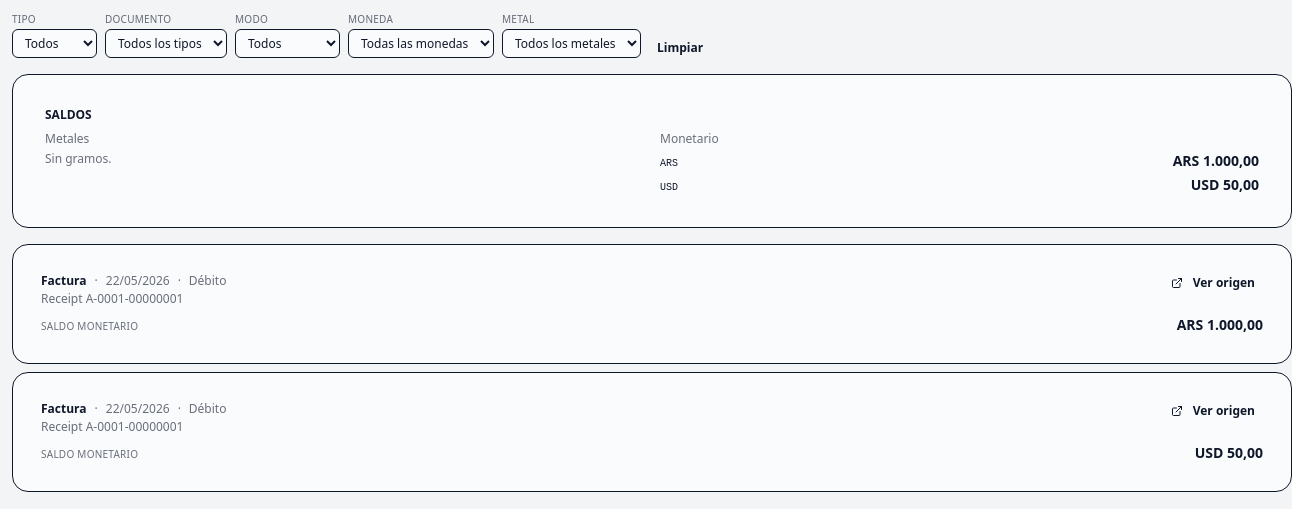
EntityBalanceMovementsView — filtros (Fase 4.4) › resumen superior se recalcula con filtros aplicados
The image size is (1292, 509).
Expected: the list item with test id "summary-money-row-ARS" is shown, [660, 151, 1259, 171]
Expected: the list item with test id "summary-money-row-USD" is shown, [660, 175, 1259, 195]
# Filtro a USD.
Select "USD" in the dropdown with test id "filter-currency" at point(421, 44), box [348, 29, 494, 58]
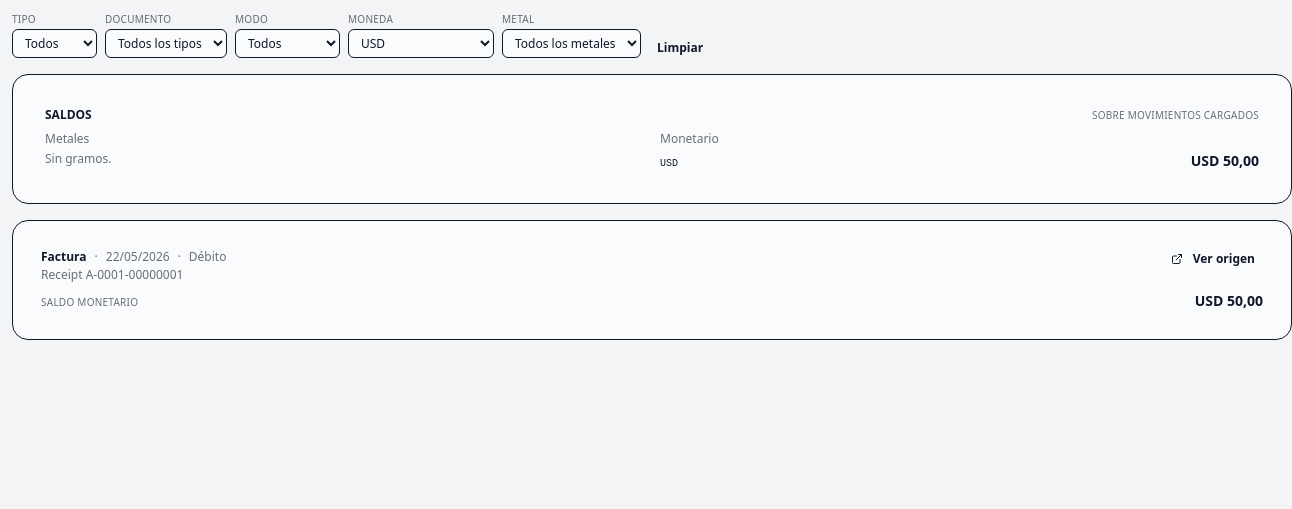
Expected: the list item with test id "summary-money-row-USD" is shown, [660, 151, 1259, 171]
Now the list item with test id "summary-money-row-ARS" is gone
